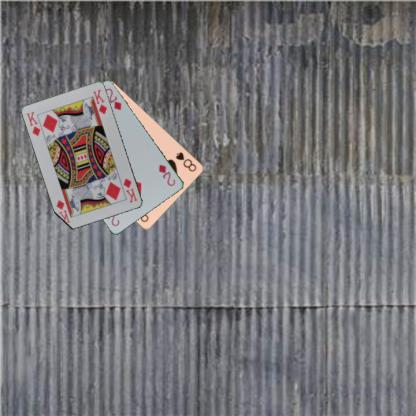2d: (156, 162, 177, 187)
8s: (173, 149, 198, 173)
Kd: (24, 108, 42, 138), (121, 176, 138, 204)
